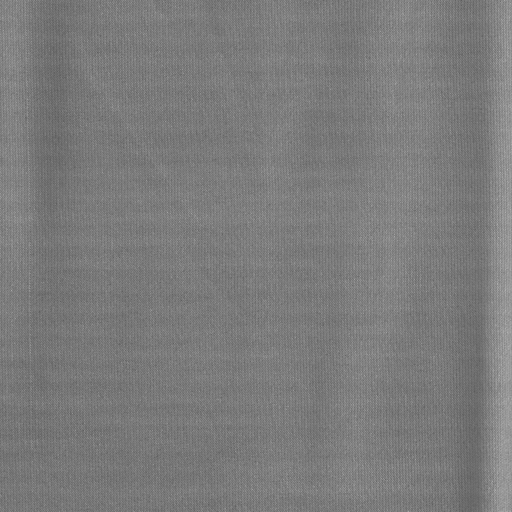defect: (20, 1, 39, 512)
